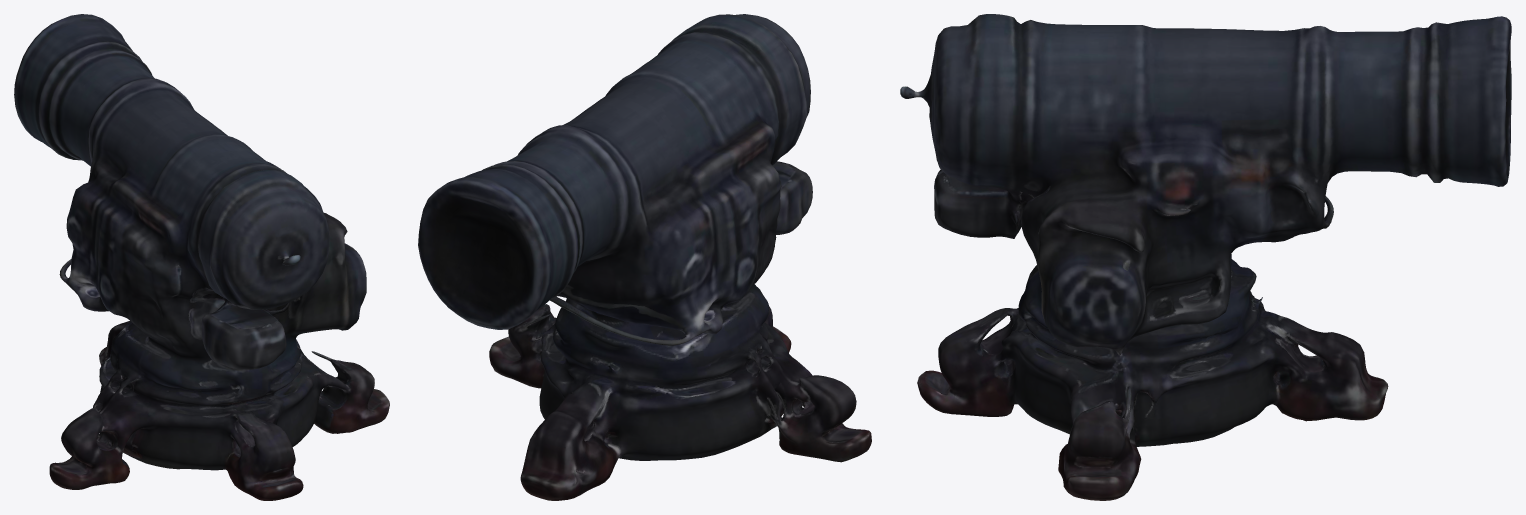
Rendered from a26903cb5d2a_crea_un_canon_tecno.fbx.
3 renders of one model, left to right at view 1: azimuth 30°, elevation 25°; view 2: azimuth 150°, elevation 25°; view 3: azimuth 270°, elevation 25°, orthographic. The views are drawn at different scales.
Visible parts, largest first — view 1: mesh; view 2: mesh; view 3: mesh.
Part boxes in pixels (left/top/right/bottom): mesh: left=14, top=14, right=389, bottom=500; mesh: left=418, top=14, right=871, bottom=500; mesh: left=900, top=14, right=1511, bottom=500.
Bounding box in the file's own units: 76.65 × 70.15 × 99.61.
